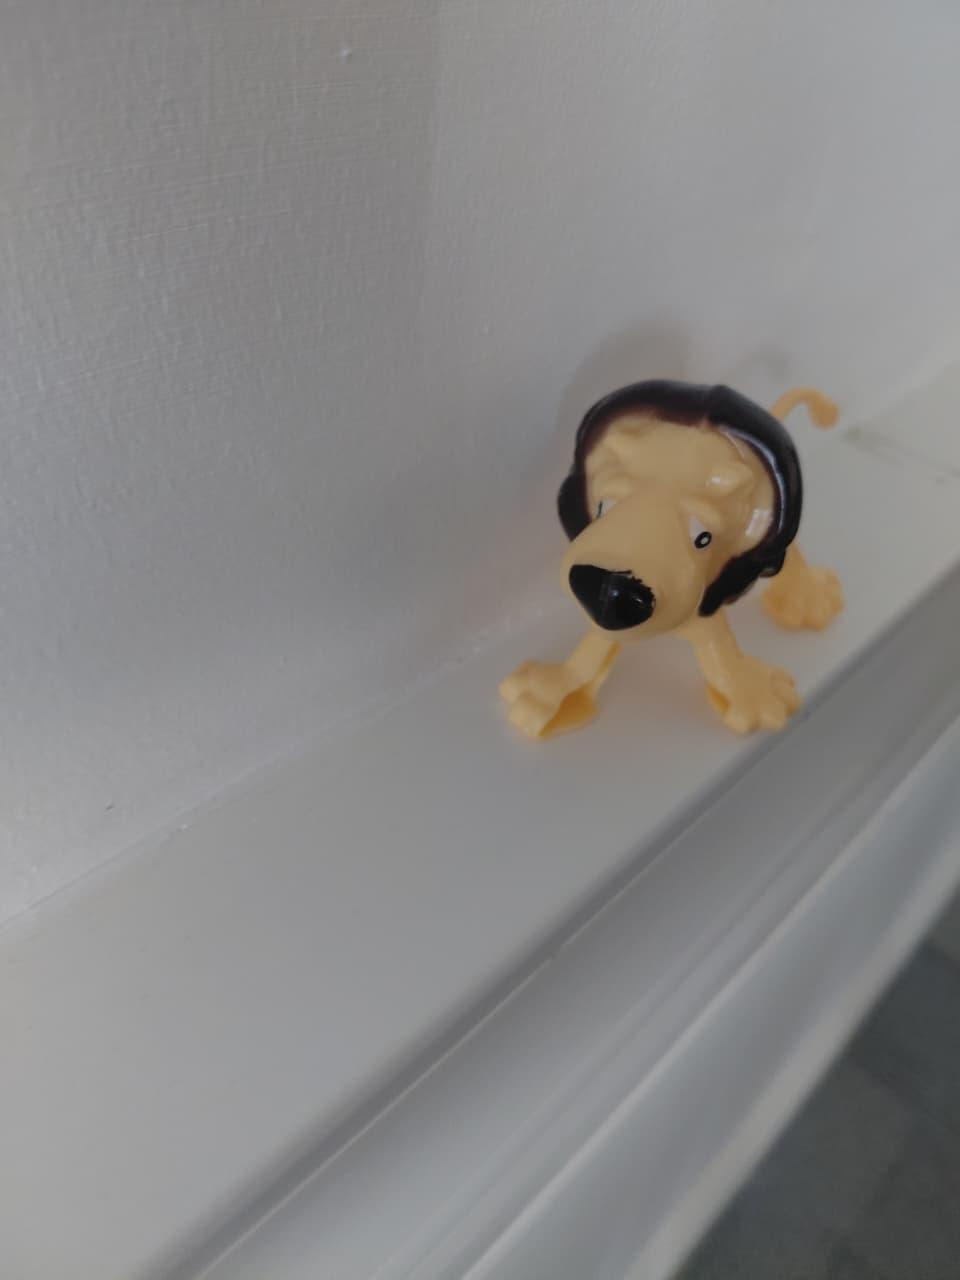lion: (490, 295, 854, 807)
